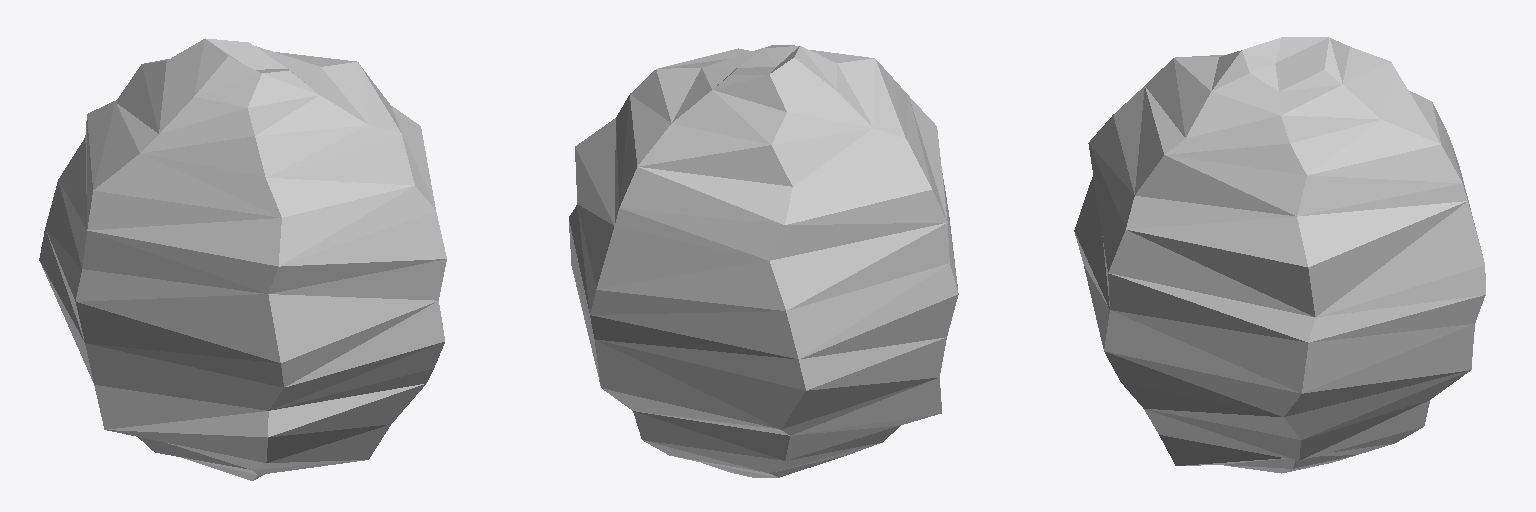
The model's file is tail.obj.
The picture shows the model from 3 angles: view 1: azimuth 30°, elevation 25°; view 2: azimuth 150°, elevation 25°; view 3: azimuth 270°, elevation 25°; orthographic projection.
Visible parts, largest first — view 1: Sphere_Sphere.110; view 2: Sphere_Sphere.110; view 3: Sphere_Sphere.110.
Part boxes in pixels (x1,y1,x2,y2): Sphere_Sphere.110: (39,38,446,480); Sphere_Sphere.110: (569,45,958,477); Sphere_Sphere.110: (1074,37,1485,473).
Bounding box in the file's own units: 0.0891 × 0.0945 × 0.0856.